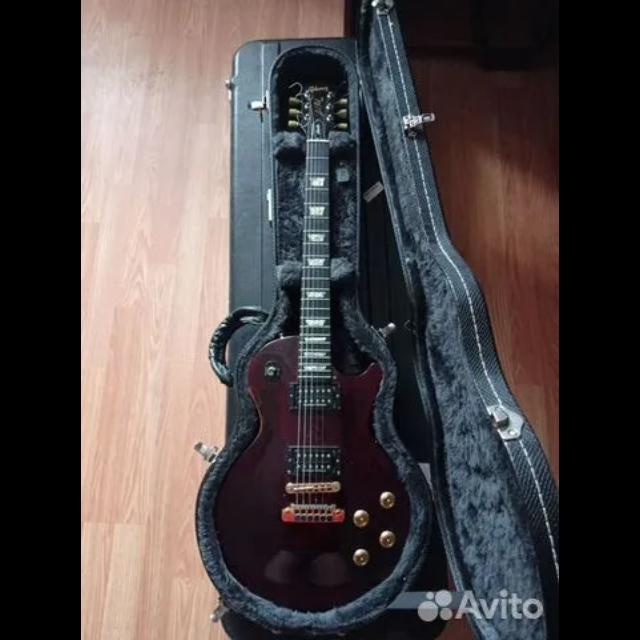Electric-Guitar: (214, 84, 410, 610)
